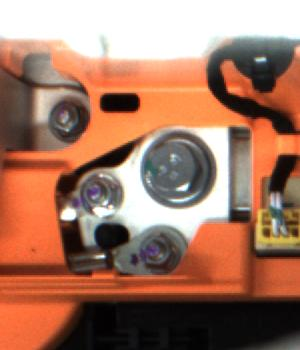nut_b: (132, 125, 225, 210)
